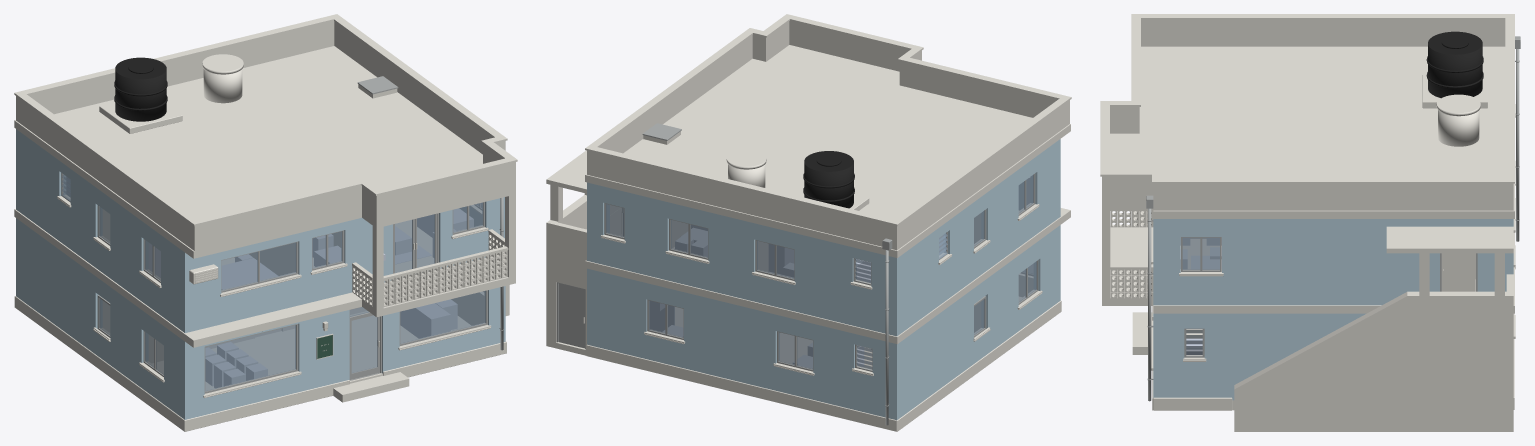
File: grand_fond_H09.glb
The picture shows the model from 3 angles, left to right: view 1: azimuth 30°, elevation 25°; view 2: azimuth 150°, elevation 25°; view 3: azimuth 270°, elevation 25°; orthographic projection. The views are drawn at different scales.
Visible parts, largest first — view 1: Roof_Slab, Walls_OG, Walls_EG, Parapet_Attika, concrete_cast, glass, Parapet_Cap, Slab_OG_Floor, floor_tiles, aluminium_weathered, new_tank_plastic_black, DoorLeaf_01_R_in (+11 smaller); view 2: Roof_Slab, Walls_OG, Walls_EG, Parapet_Attika, concrete_cast, Parapet_Cap, glass, aluminium_weathered, new_tank_plastic_black, Ext_Stair_Wange, DoorLeaf_06_R_in, Store_Wall_North (+6 smaller); view 3: Roof_Slab, Ext_Stair_Wange, Walls_OG, Parapet_Attika, Walls_EG, concrete_cast, Parapet_Cap, Podest_Canopy, new_tank_plastic_black, Slab_OG_Floor, plaster_white, steel_painted_worn (+8 smaller).
Part boxes in pixels (x1,y1,x2,y2): Roof_Slab: [54, 46, 515, 258]; Walls_OG: [16, 129, 504, 332]; Walls_EG: [16, 218, 505, 419]; Parapet_Attika: [16, 21, 515, 250]; concrete_cast: [14, 54, 508, 431]; glass: [62, 174, 485, 391]; Parapet_Cap: [14, 14, 517, 226]; Slab_OG_Floor: [185, 261, 515, 347]; floor_tiles: [152, 220, 470, 390]; aluminium_weathered: [61, 173, 487, 393]; new_tank_plastic_black: [114, 57, 167, 121]; DoorLeaf_01_R_in: [350, 314, 379, 379]; Roof_Slab: [623, 45, 1032, 219]; Walls_OG: [587, 139, 1060, 336]; Walls_EG: [587, 225, 1060, 420]; Parapet_Attika: [587, 21, 1069, 250]; concrete_cast: [585, 124, 1070, 431]; Parapet_Cap: [585, 14, 1071, 226]; glass: [606, 174, 1036, 369]; aluminium_weathered: [604, 173, 1038, 371]; new_tank_plastic_black: [803, 151, 854, 208]; Ext_Stair_Wange: [546, 195, 586, 347]; DoorLeaf_06_R_in: [558, 283, 584, 348]; Store_Wall_North: [554, 260, 586, 355]; Roof_Slab: [1102, 46, 1505, 210]; Ext_Stair_Wange: [1234, 291, 1513, 431]; Walls_OG: [1153, 219, 1513, 305]; Parapet_Attika: [1102, 20, 1513, 210]; Walls_EG: [1153, 313, 1365, 400]; concrete_cast: [1110, 74, 1515, 410]; Parapet_Cap: [1100, 14, 1514, 183]; Podest_Canopy: [1386, 226, 1513, 253]; new_tank_plastic_black: [1426, 31, 1483, 98]; Slab_OG_Floor: [1102, 211, 1153, 305]; plaster_white: [1153, 305, 1381, 313]; steel_painted_worn: [1146, 36, 1520, 401].
Bounding box in the file's own units: 13.06 × 8.12 × 12.24.
